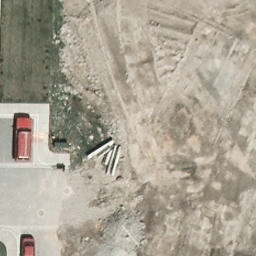car: (15, 115, 36, 165)
